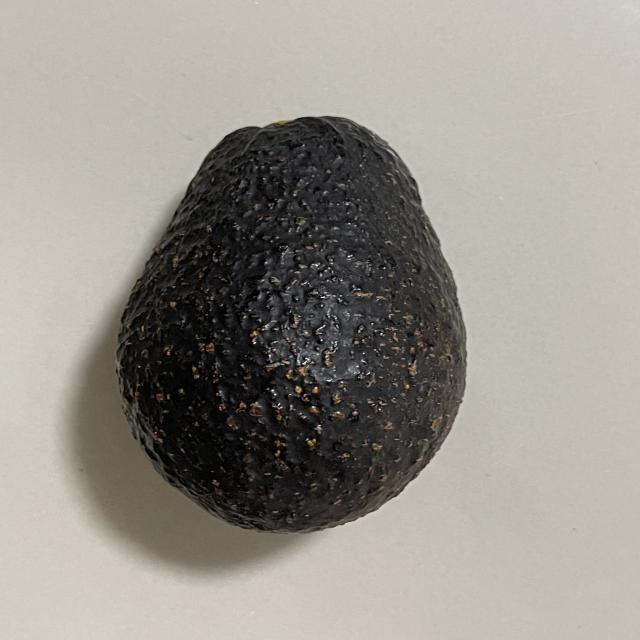Level2: (112, 111, 477, 540)
